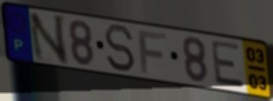8: (181, 36, 210, 84), (67, 19, 96, 67)
E: (209, 39, 247, 90)
F: (137, 29, 168, 76)
N: (27, 12, 70, 66)
S: (102, 23, 137, 74)
